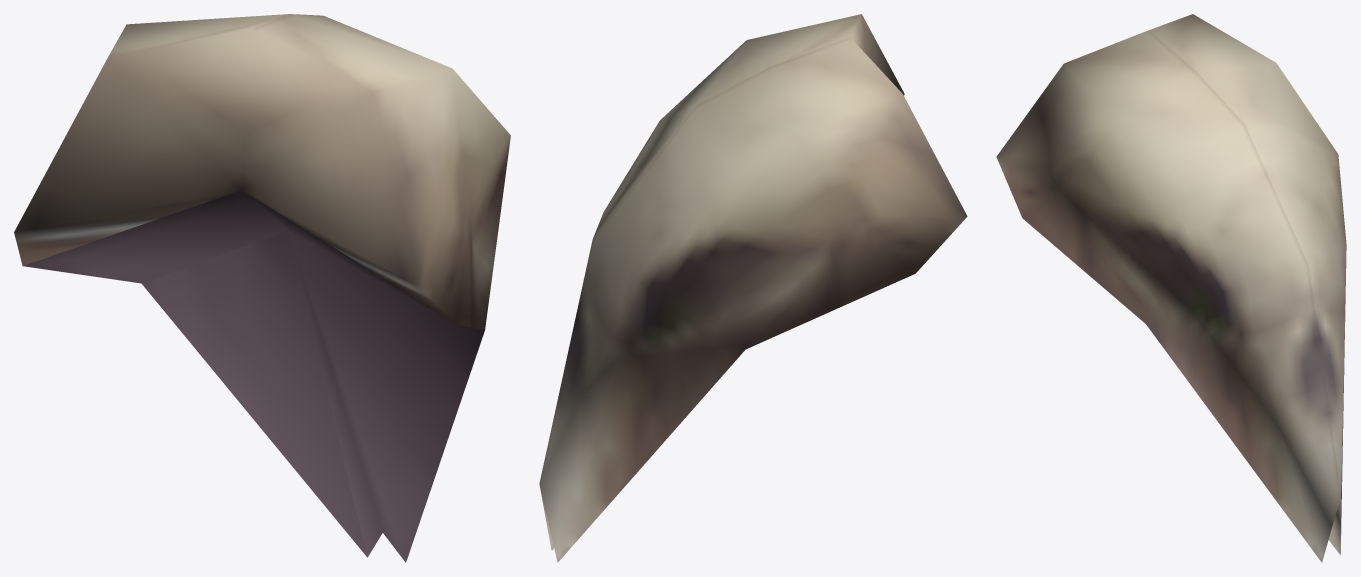
The model's file is area_04_2.FBX.
3 views of the same model, side by side, from view 1: azimuth 30°, elevation 25°; view 2: azimuth 150°, elevation 25°; view 3: azimuth 270°, elevation 25° (orthographic). The views are drawn at different scales.
Parts seen in each view (by area): view 1: area_04_2; view 2: area_04_2; view 3: area_04_2.
Part boxes in pixels (x1,y1,x2,y2): area_04_2: (14, 14, 510, 562); area_04_2: (539, 14, 967, 562); area_04_2: (996, 14, 1346, 562).
Bounding box in the file's own units: 1.57 × 2.14 × 1.53.
